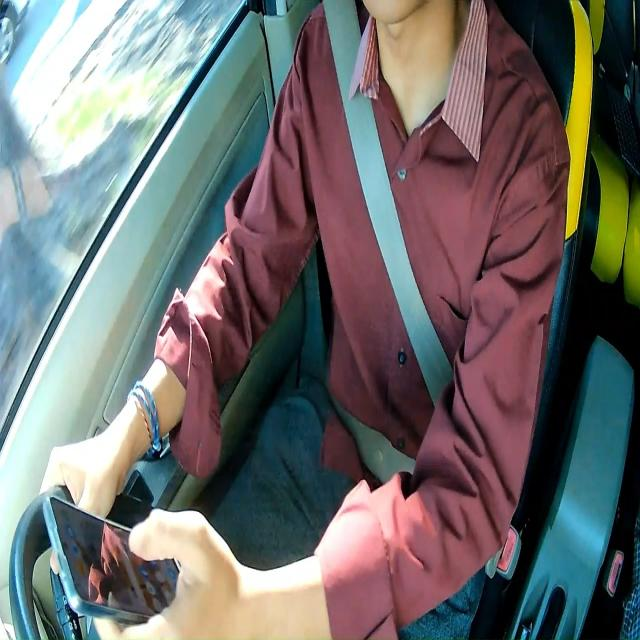phone: (38, 491, 180, 625)
